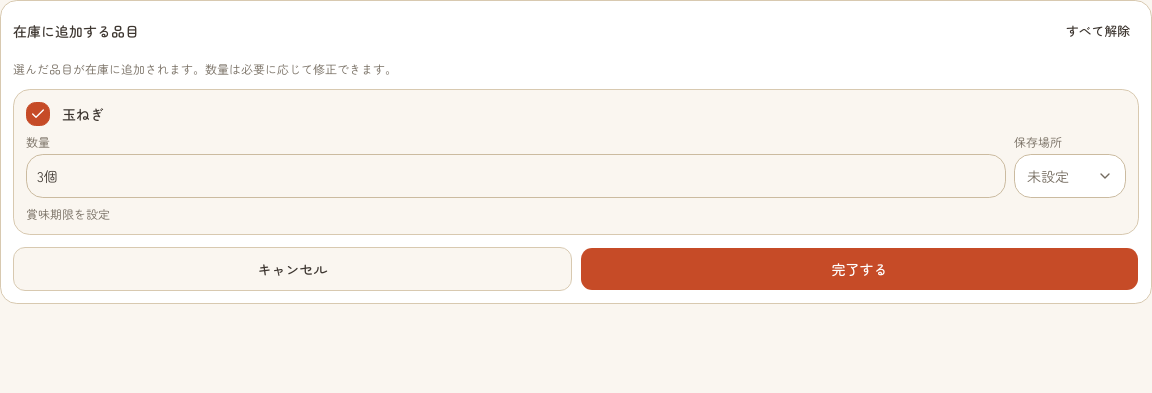
it: CompleteShoppingPanel › CSP-01: 既定では日付入力を表示せず、設定ボタンで独立行を展開する
The width and height of the screenshot is (1152, 393).
Click the button "賞味期限を設定" at (68, 214), box [26,206,110,222]
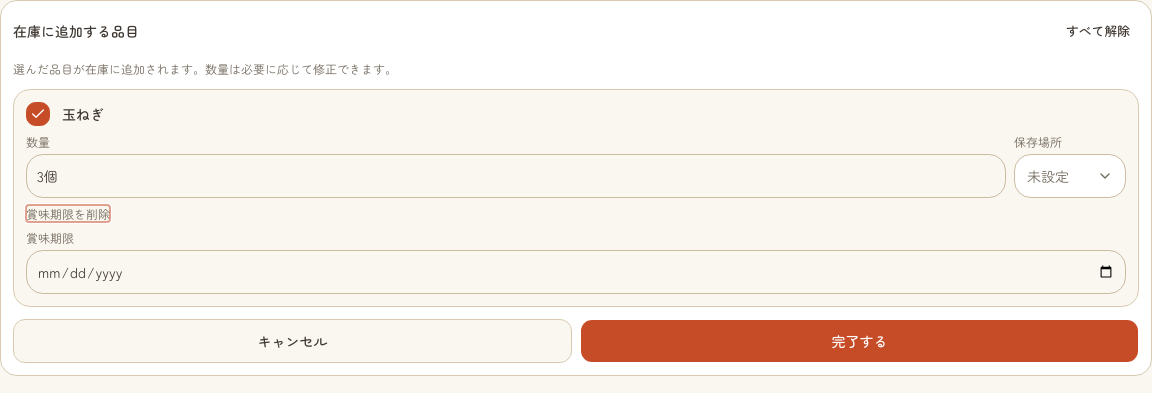
Expected: the date field labelled "賞味期限" is shown, [26,250,1126,294]
Expected: the button "賞味期限を削除" is expanded, [26,206,110,222]
